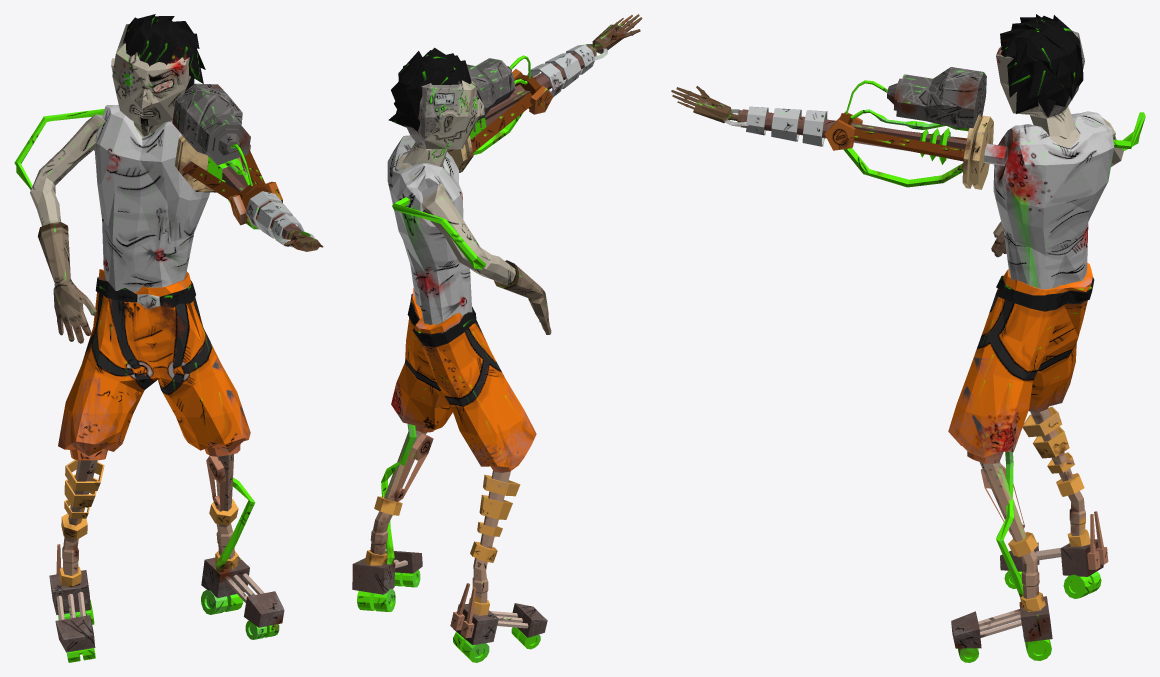
File: CyborgFINALAnimation_000112.obj
3 views of the same model, side by side, from view 1: azimuth 30°, elevation 25°; view 2: azimuth 150°, elevation 25°; view 3: azimuth 270°, elevation 25° (orthographic). The views are drawn at different scales.
Parts seen in each view (by area): view 1: CyborgMesh_Cube.002; view 2: CyborgMesh_Cube.002; view 3: CyborgMesh_Cube.002.
Part boxes in pixels (x1=…): CyborgMesh_Cube.002: x1=14, y1=14, x2=323, y2=662; CyborgMesh_Cube.002: x1=352, y1=14, x2=642, y2=662; CyborgMesh_Cube.002: x1=671, y1=14, x2=1145, y2=662.
Size of the model in its own units: 3.23 by 9.61 by 6.77.
